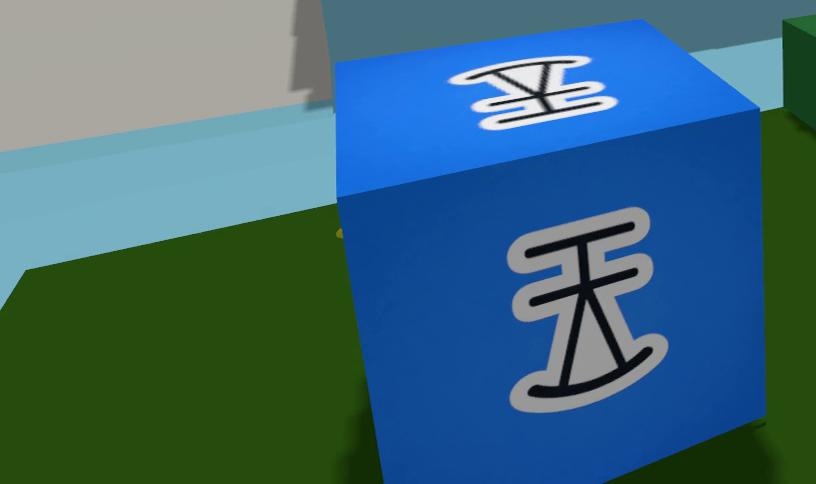KFS_REAL: (335, 20, 763, 483), (506, 207, 667, 412), (448, 56, 617, 130)
